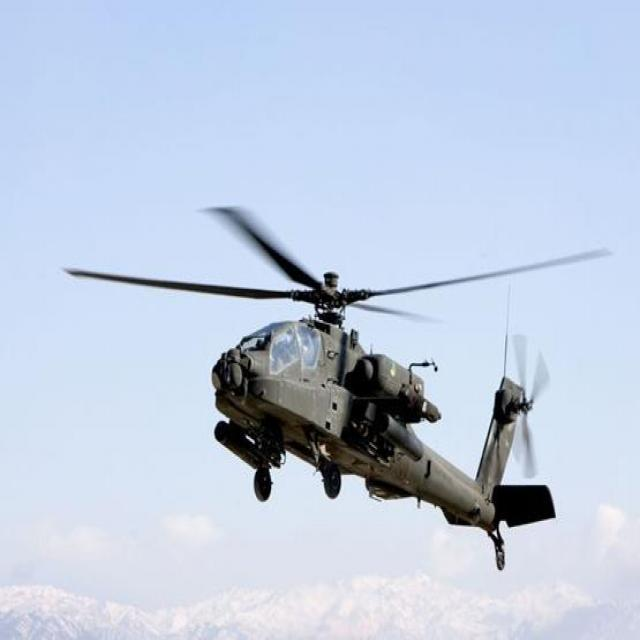MIL_HELO: (56, 202, 640, 572)
